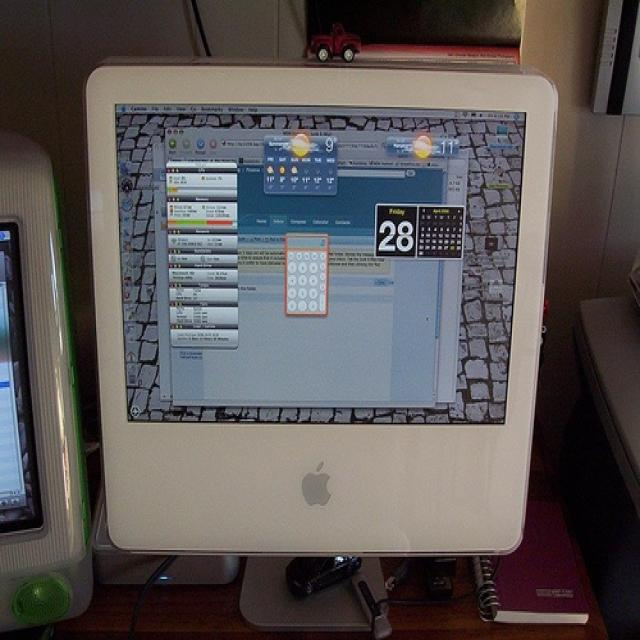tvmonitor: (83, 54, 558, 632), (0, 134, 93, 631)
